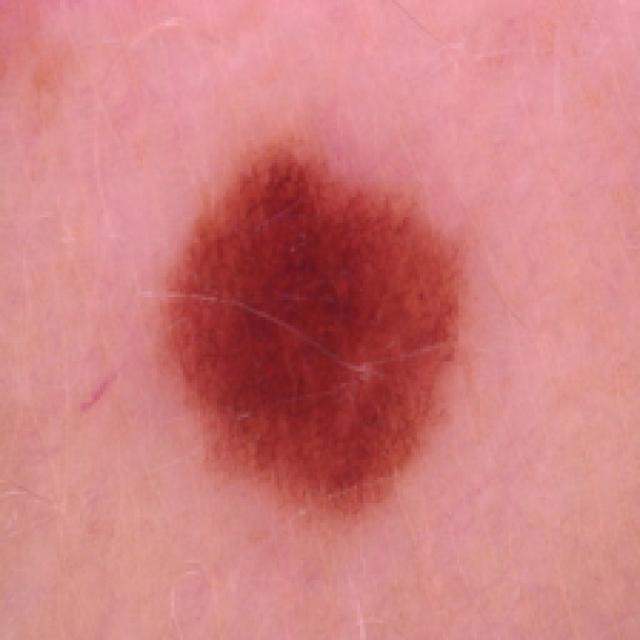non-cancer: (136, 106, 502, 540)
